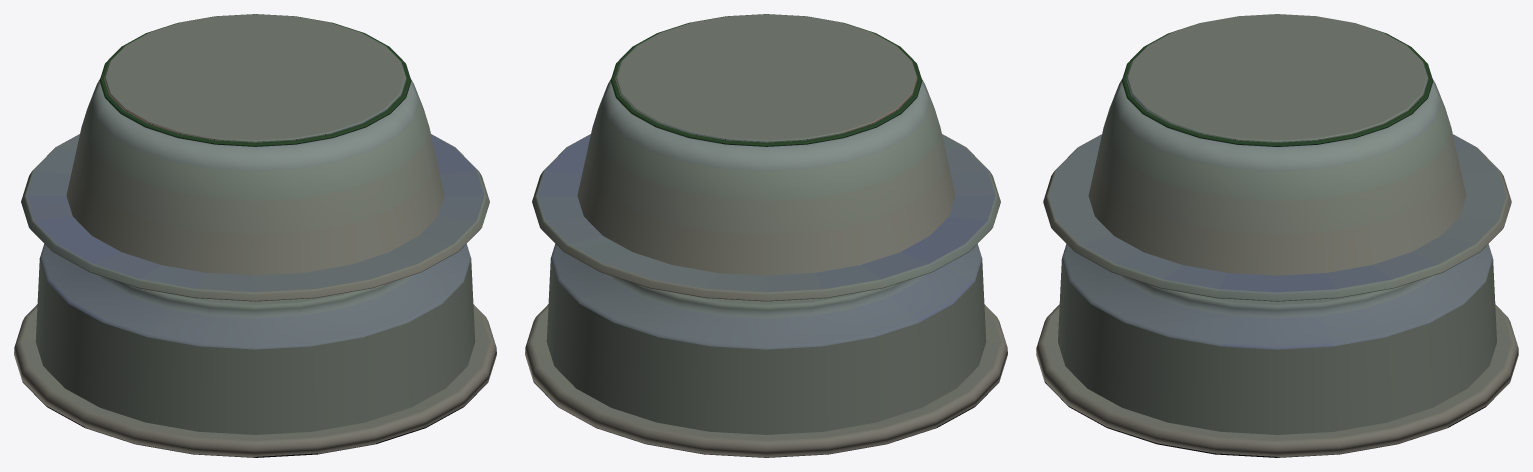
Rendered from Tile_S_Pl.fbx.
3 views of the same model, side by side, from view 1: azimuth 30°, elevation 25°; view 2: azimuth 150°, elevation 25°; view 3: azimuth 270°, elevation 25° (orthographic).
Parts seen in each view (by area): view 1: Tile_S_Pl, Tile_S_Pl (2); view 2: Tile_S_Pl, Tile_S_Pl (2); view 3: Tile_S_Pl, Tile_S_Pl (2).
Boxes of the visible parts, bbox=[...] form: Tile_S_Pl: bbox=[21, 14, 489, 301]; Tile_S_Pl (2): bbox=[14, 244, 496, 457]; Tile_S_Pl: bbox=[532, 14, 1000, 301]; Tile_S_Pl (2): bbox=[525, 244, 1007, 457]; Tile_S_Pl: bbox=[1043, 14, 1511, 301]; Tile_S_Pl (2): bbox=[1036, 244, 1518, 457].
Bounding box in the file's own units: 134 × 85.74 × 134.
